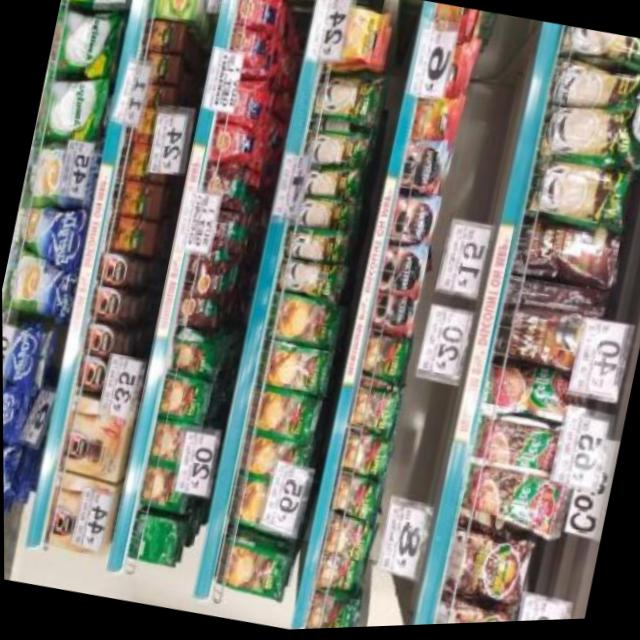Coffee: (388, 196, 437, 249), (399, 141, 447, 195), (410, 96, 458, 147), (379, 247, 425, 299), (75, 352, 125, 396), (370, 290, 417, 336), (95, 247, 145, 290), (80, 320, 131, 361), (88, 284, 137, 325), (434, 4, 476, 32)
